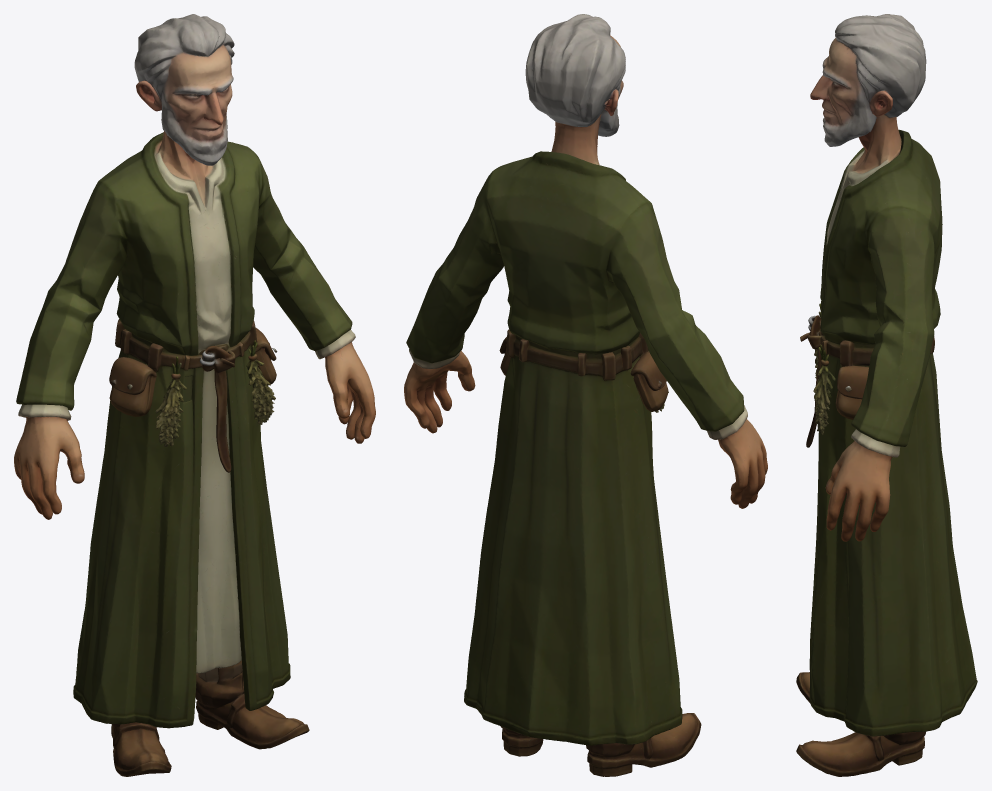
File: apothecary.glb
3 renders of one model, left to right at view 1: azimuth 30°, elevation 25°; view 2: azimuth 150°, elevation 25°; view 3: azimuth 270°, elevation 25°, orthographic.
Visible parts, largest first — view 1: world; view 2: world; view 3: world.
Boxes of the visible parts, <box> form: world: <box>14,14,375,776</box>; world: <box>404,14,767,776</box>; world: <box>796,14,977,776</box>.
Bounding box in the file's own units: 0.4979 × 0.9984 × 0.2292.
Materials: 1 (1 with a texture image).
